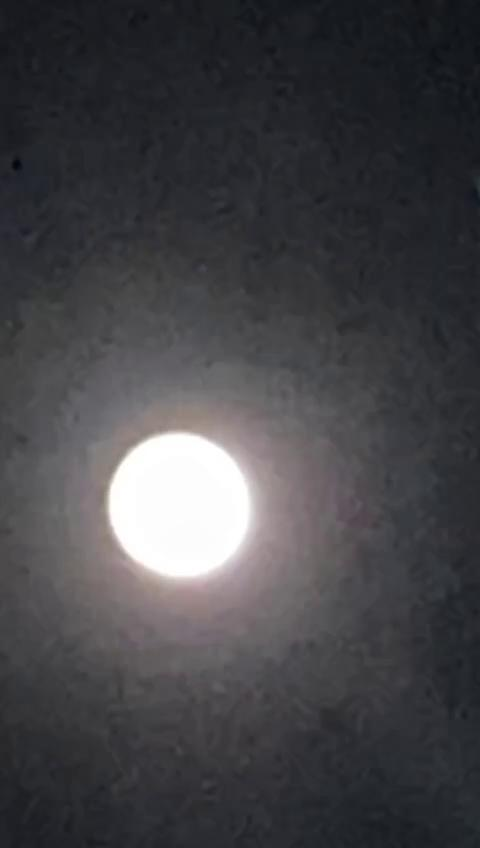moon: (93, 400, 271, 590)
